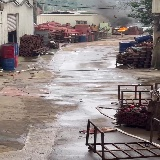fire: (117, 27, 128, 31)
